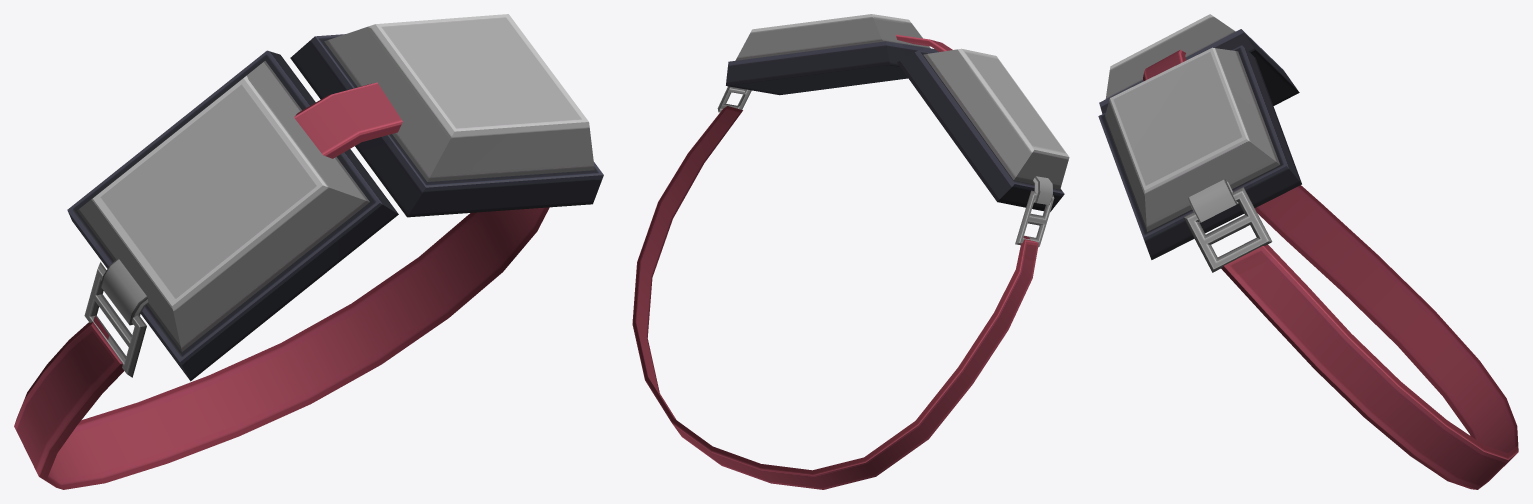
The model's file is _headwear_036.fbx.
The picture shows the model from 3 angles, left to right: view 1: azimuth 30°, elevation 25°; view 2: azimuth 150°, elevation 25°; view 3: azimuth 270°, elevation 25°; orthographic projection. The views are drawn at different scales.
Parts seen in each view (by area): view 1: f_headwear_036; view 2: f_headwear_036; view 3: f_headwear_036.
Boxes of the visible parts, box(x1,y1,x2,y2) form: f_headwear_036: box(14, 14, 603, 489); f_headwear_036: box(632, 14, 1069, 489); f_headwear_036: box(1098, 14, 1518, 489).
Bounding box in the file's own units: 20.77 × 22.3 × 19.97.
